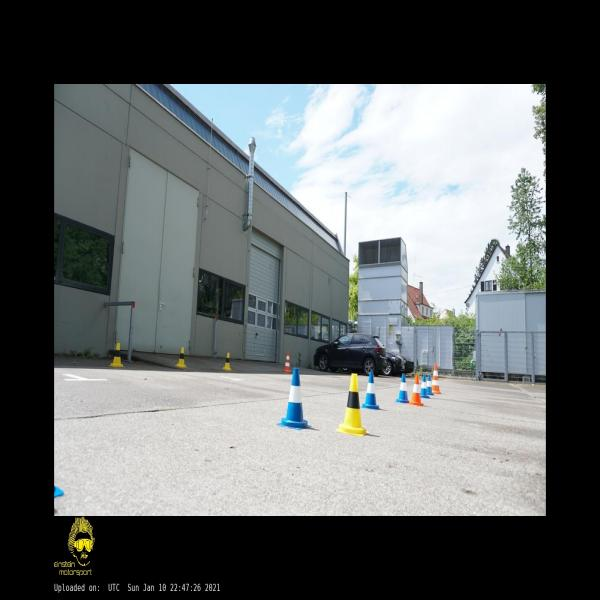blue_cone: (277, 367, 311, 430), (360, 372, 381, 410), (396, 373, 409, 403), (420, 374, 430, 398), (426, 375, 434, 396)
large_orange_cone: (431, 364, 441, 394), (282, 351, 292, 372)
orange_cone: (407, 375, 423, 406)
yellow_cone: (336, 373, 368, 436), (109, 343, 125, 367), (175, 347, 187, 368), (222, 352, 232, 371)
